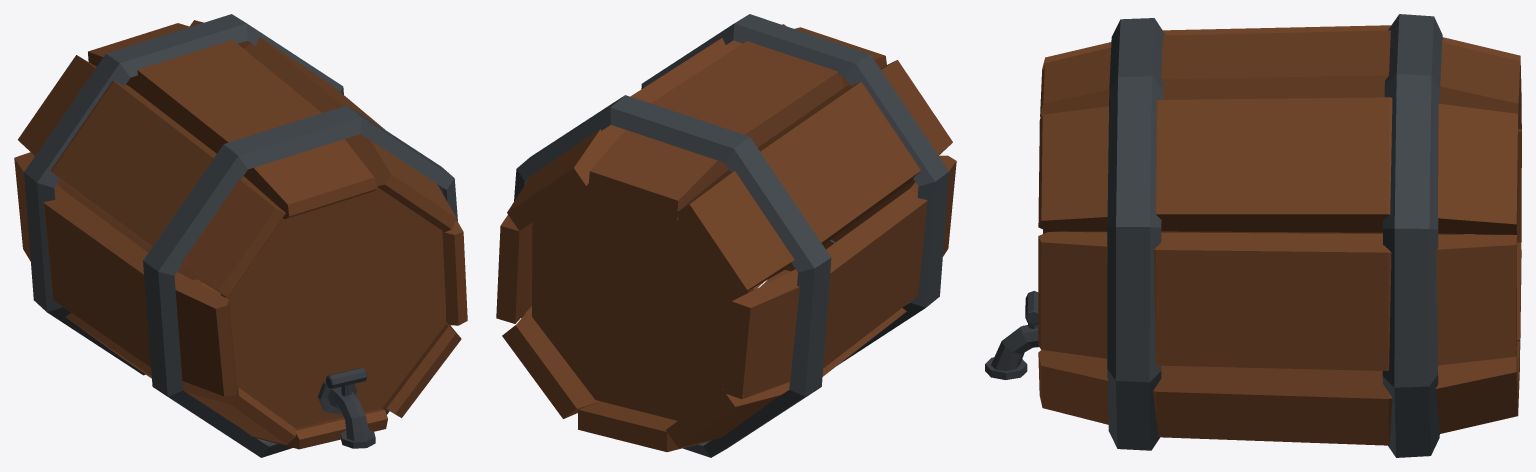
File: BeerBarrel_1.fbx
The picture shows the model from 3 angles, left to right: view 1: azimuth 30°, elevation 25°; view 2: azimuth 150°, elevation 25°; view 3: azimuth 270°, elevation 25°; orthographic projection. The views are drawn at different scales.
Visible parts, largest first — view 1: BeerBarrel_1; view 2: BeerBarrel_1; view 3: BeerBarrel_1.
Part boxes in pixels (x1,y1,x2,y2): BeerBarrel_1: (14, 14, 467, 457); BeerBarrel_1: (496, 14, 956, 457); BeerBarrel_1: (985, 14, 1521, 457).
Size of the model in its own units: 138 by 138 by 175.
